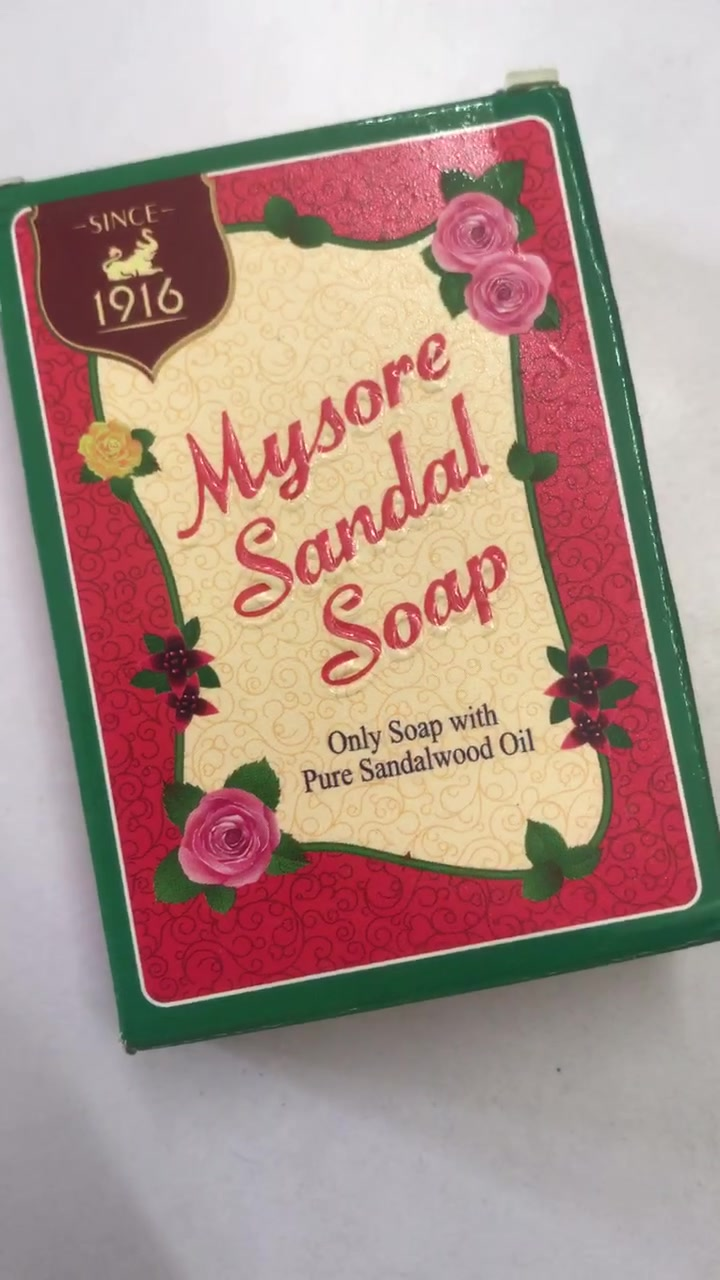mysore sandal soap: (16, 121, 706, 1025)
